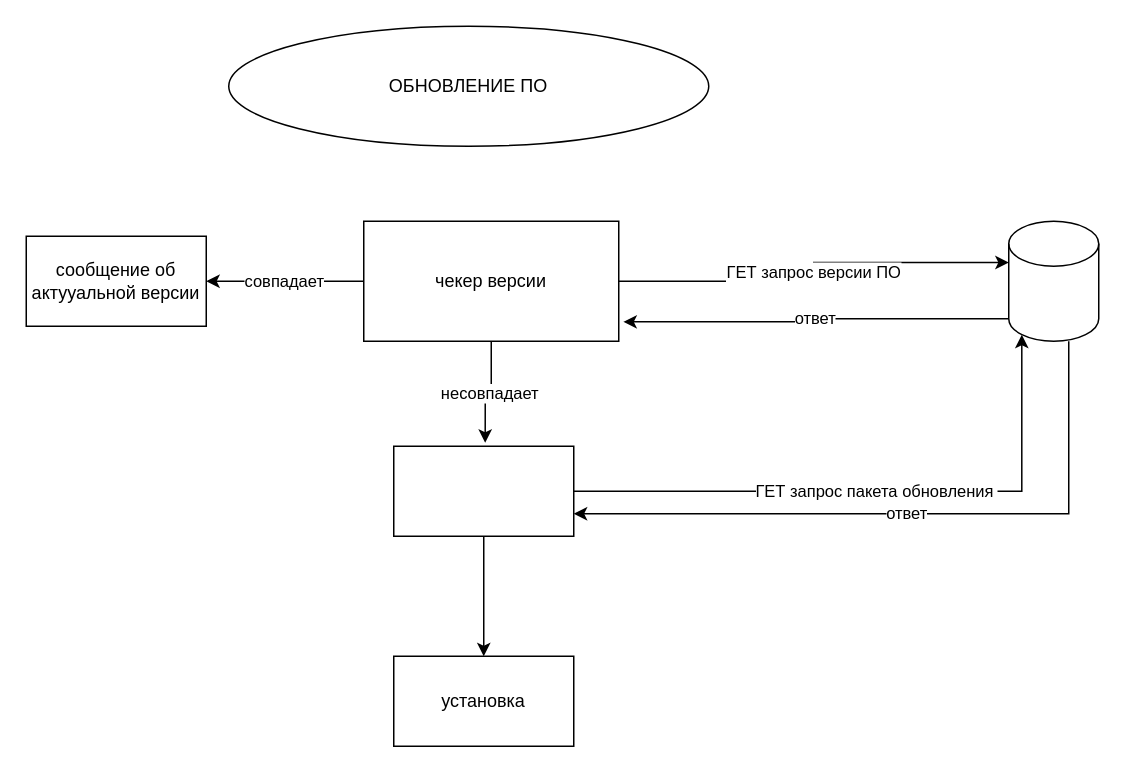
Some shapes in this 1125 by 773 pixel diagram are drawn without their labels. Each missing label, with the box of its shape:
БД: (1007, 220, 1099, 341)
установщик: (392, 445, 574, 536)
